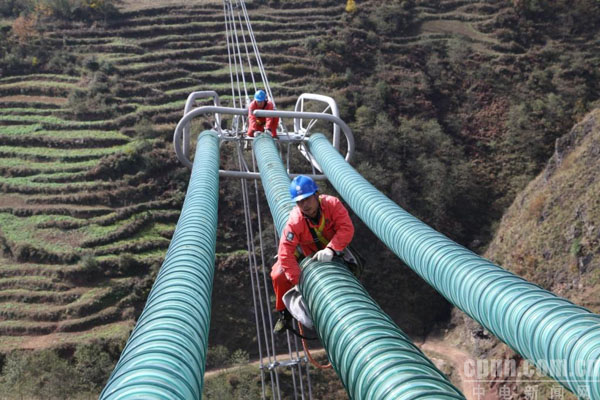isolator: (96, 131, 597, 400), (305, 134, 600, 399), (252, 134, 469, 400), (96, 130, 221, 398)
